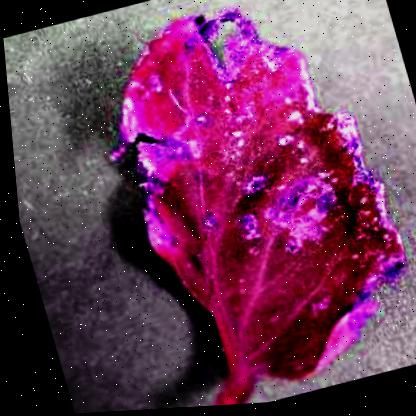BACTERIAL SPOT: (67, 0, 415, 412)
